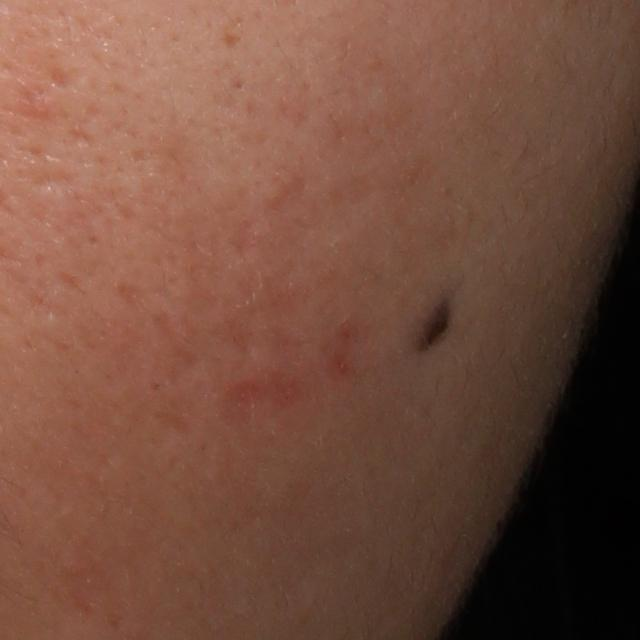atrophic_scar: (23, 169, 83, 194), (51, 63, 78, 95), (220, 25, 244, 52)
nevus: (416, 295, 452, 354)
